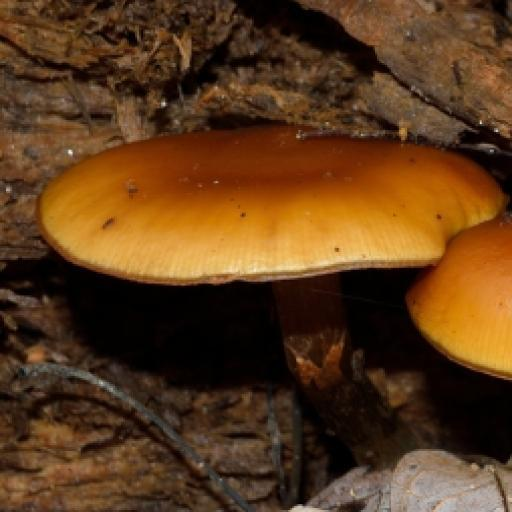mushroom: (30, 106, 512, 431)
